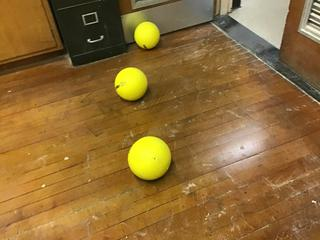power_cell: (127, 133, 175, 183), (114, 66, 148, 102), (132, 22, 163, 50)
